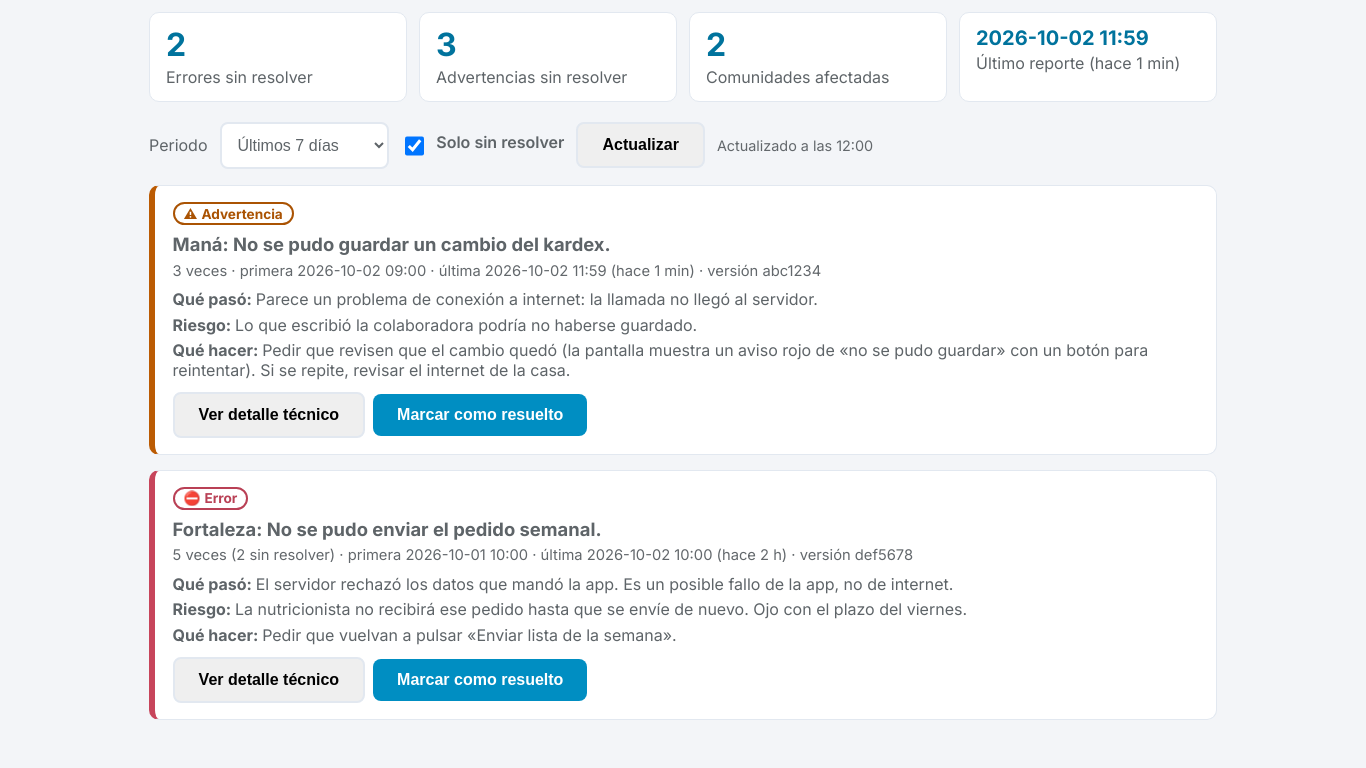
Scenario: detalle técnico › si falla, lo dice; y el código del grupo se ve en el detalle
(page scrolled)
Click the button "Ver detalle técnico" below "5 veces (2 sin resolver)" at (269,680), box [173, 657, 365, 703]
(page scrolled)
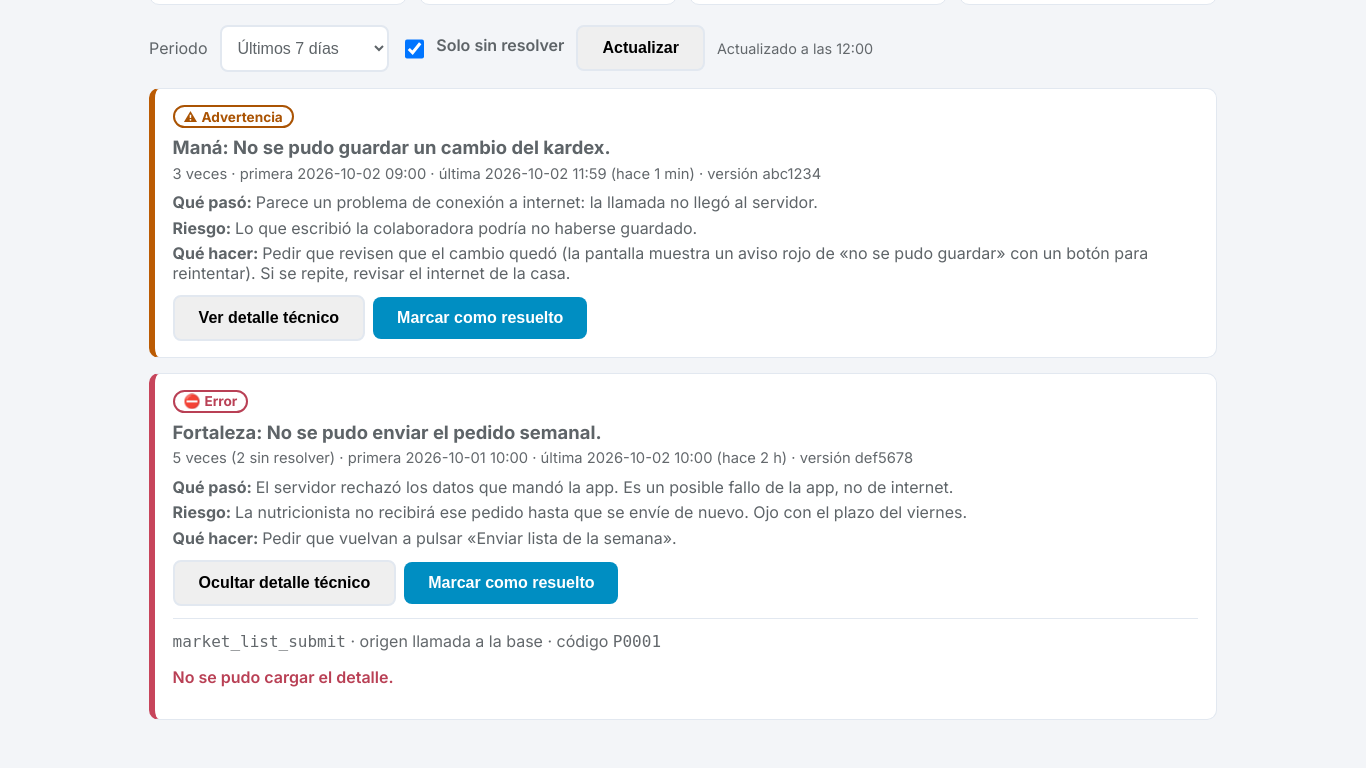
Result: the message reads "No se pudo cargar el detalle." at [173, 667, 394, 687]
Result: the list item "Fortaleza: No se pudo enviar el pedido semanal." shows "código P0001" at [149, 373, 1217, 720]
